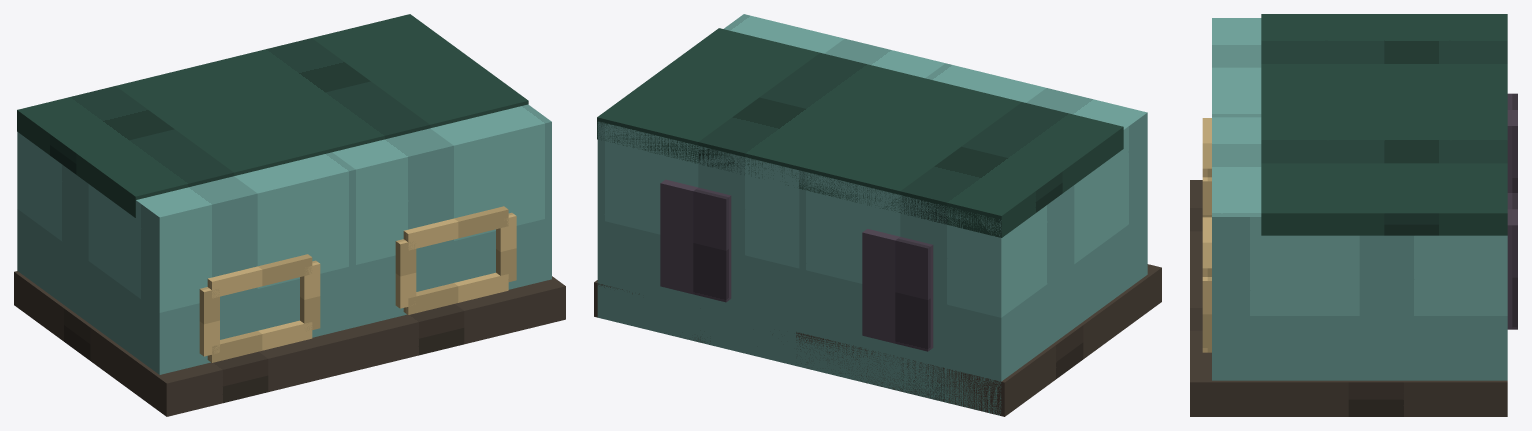
File: qi_tingyu_boots.obj
3 views of the same model, side by side, from view 1: azimuth 30°, elevation 25°; view 2: azimuth 150°, elevation 25°; view 3: azimuth 270°, elevation 25° (orthographic). The views are drawn at different scales.
Visible parts, largest first — view 1: boot_-1, boot_1, boot_lip_-1, boot_lip_1, sole_-1, sole_1, vamp_window_1_2, vamp_window_-1_2, vamp_window_1_0, vamp_window_-1_0, vamp_window_-1_3, vamp_window_1_3 (+2 smaller); view 2: boot_-1, boot_1, boot_lip_-1, boot_lip_1, sole_-1, boot_back_-1, boot_back_1; view 3: boot_1, boot_lip_1, boot_lip_-1, sole_1, boot_-1, boot_back_1, sole_-1, boot_back_-1, vamp_window_1_1, vamp_window_1_2, vamp_window_-1_2, vamp_window_-1_1.
Boxes of the visible parts, <box> form: boot_-1: <box>17,132,355,374</box>; boot_1: <box>332,104,551,326</box>; boot_lip_-1: <box>17,62,332,217</box>; boot_lip_1: <box>214,14,528,152</box>; sole_-1: <box>14,271,369,416</box>; sole_1: <box>359,276,565,368</box>; vamp_window_1_2: <box>403,206,508,250</box>; vamp_window_-1_2: <box>207,254,312,298</box>; vamp_window_1_0: <box>403,272,508,314</box>; vamp_window_-1_0: <box>207,320,312,362</box>; vamp_window_-1_3: <box>199,287,219,356</box>; vamp_window_1_3: <box>395,239,416,308</box>; boot_-1: <box>799,63,1147,415</box>; boot_1: <box>597,14,945,366</box>; boot_lip_-1: <box>799,77,1123,237</box>; boot_lip_1: <box>597,28,920,185</box>; sole_-1: <box>796,264,1161,416</box>; boot_back_-1: <box>862,229,933,351</box>; boot_back_1: <box>660,179,731,302</box>; boot_1: <box>1212,117,1507,380</box>; boot_lip_1: <box>1261,114,1507,235</box>; boot_lip_-1: <box>1261,14,1507,113</box>; sole_1: <box>1190,282,1507,416</box>; boot_-1: <box>1212,18,1261,117</box>; boot_back_1: <box>1507,193,1517,329</box>; sole_-1: <box>1190,180,1202,282</box>; boot_back_-1: <box>1507,93,1517,192</box>; vamp_window_1_1: <box>1202,277,1211,347</box>; vamp_window_1_2: <box>1202,217,1211,276</box>; vamp_window_-1_2: <box>1202,118,1211,177</box>; vamp_window_-1_1: <box>1202,177,1211,217</box>.
Bounding box in the file's own units: 0.5469 × 0.2547 × 0.3744.
